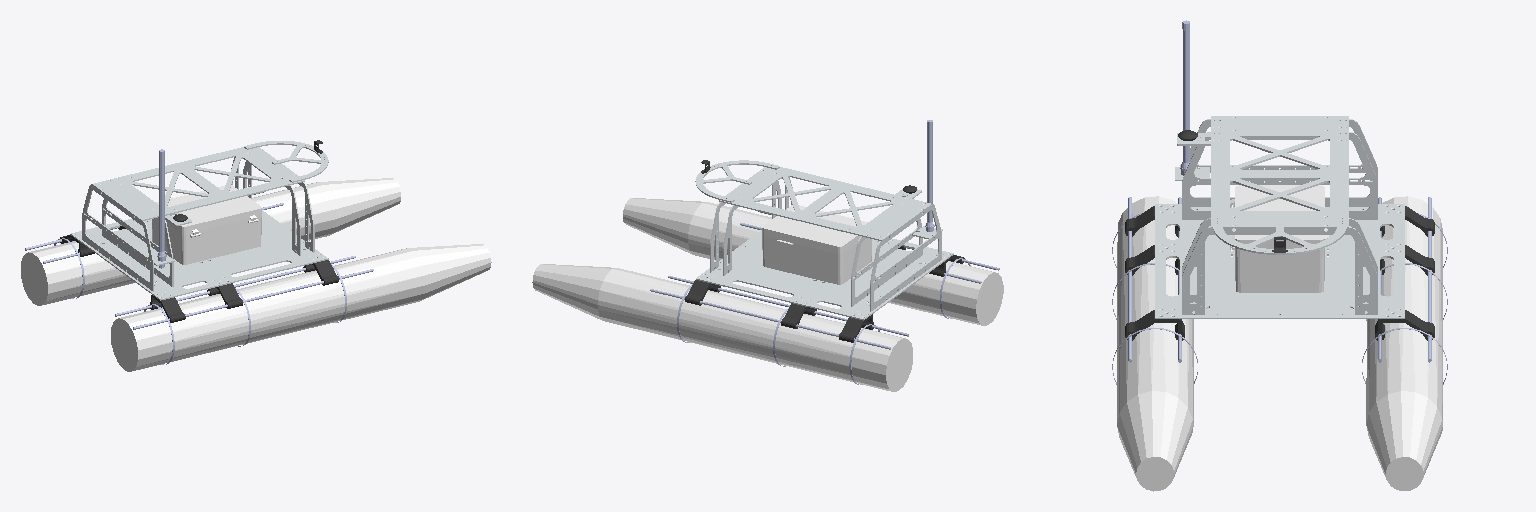
URDF robot description (duckiepond_vehicle):
<robot name="duckiepond_vehicle">
  <link name="baselink">
    <inertial>
      <origin xyz="-0.00201556619553345 -0.115774711383391 0.0452928535049344" rpy="0 0 0" />
      <mass value="7.3955685240054" />
      <inertia ixx="0.0930686648809486" ixy="8.49971556491276E-05" ixz="-0.00444766572354564" iyy="0.141452706715672" iyz="-0.00890585483017133" izz="0.118669808193289" />
    </inertial>
    <visual>
      <origin xyz="0 0 0" rpy="0 0 0" />
      <geometry>
        <mesh filename="package://duckiepond_vehicle/mesh/baselink.STL" />
      </geometry>
      <material name="">
        <color rgba="0.898039215686275 0.917647058823529 0.929411764705882 1" />
      </material>
    </visual>
    <collision>
      <origin xyz="0 0 0" rpy="0 0 0" />
      <geometry>
        <mesh filename="package://duckiepond_vehicle/mesh/baselink.STL" />
      </geometry>
    </collision>
  </link>
  <link name="cameralink">
    <inertial>
      <origin xyz="0.00437816278028319 -2.13891714974872E-05 -0.00728569229905018" rpy="0 0 0" />
      <mass value="0.00562870839119988" />
      <inertia ixx="0" ixy="0" ixz="0" iyy="0" iyz="0" izz="0" />
    </inertial>
    <visual>
      <origin xyz="0 0 0" rpy="0 0 0" />
      <geometry>
        <mesh filename="package://duckiepond_vehicle/mesh/cameralink.STL" />
      </geometry>
      <material name="">
        <color rgba="0.298039215686275 0.298039215686275 0.298039215686275 1" />
      </material>
    </visual>
    <collision>
      <origin xyz="0 0 0" rpy="0 0 0" />
      <geometry>
        <mesh filename="package://duckiepond_vehicle/mesh/cameralink.STL" />
      </geometry>
    </collision>
  </link>
  <joint name="camerajoint" type="fixed">
    <origin xyz="0.489530613957206 0 0.290251530663678" rpy="0 0 0" />
    <parent link="baselink" />
    <child link="cameralink" />
    <axis xyz="0 0 0" />
  </joint>
  <link name="gpslink">
    <inertial>
      <origin xyz="1.01683827635757E-07 -1.01683827691268E-07 0.00875648643174259" rpy="0 0 0" />
      <mass value="0.028118264575905" />
      <inertia ixx="0" ixy="0" ixz="0" iyy="0" iyz="0" izz="0" />
    </inertial>
    <visual>
      <origin xyz="0 0 0" rpy="0 0 0" />
      <geometry>
        <mesh filename="package://duckiepond_vehicle/mesh/gpslink.STL" />
      </geometry>
      <material name="">
        <color rgba="0.298039215686275 0.298039215686275 0.298039215686275 1" />
      </material>
    </visual>
    <collision>
      <origin xyz="0 0 0" rpy="0 0 0" />
      <geometry>
        <mesh filename="package://duckiepond_vehicle/mesh/gpslink.STL" />
      </geometry>
    </collision>
  </link>
  <joint name="gpsjoint" type="fixed">
    <origin xyz="-0.2175 -0.2395 0.255" rpy="4.16333634234434E-17 1.11022302462516E-16 6.93889390390723E-17" />
    <parent link="baselink" />
    <child link="gpslink" />
    <axis xyz="0 0 0" />
  </joint>
  <link name="boxlink">
    <inertial>
      <origin xyz="0.0308158977062125 -0.000840284840662907 0.0824275993877513" rpy="0 0 0" />
      <mass value="0.967626833312939" />
      <inertia ixx="6.24394504813381E-05" ixy="-5.31326643118662E-05" ixz="1.94006601550366E-05" iyy="5.85864783515465E-05" iyz="2.01168382965867E-05" izz="0.00010633515628306" />
    </inertial>
    <visual>
      <origin xyz="0 0 0" rpy="0 0 0" />
      <geometry>
        <mesh filename="package://duckiepond_vehicle/mesh/boxlink.STL" />
      </geometry>
      <material name="">
        <color rgba="1 1 1 1" />
      </material>
    </visual>
    <collision>
      <origin xyz="0 0 0" rpy="0 0 0" />
      <geometry>
        <mesh filename="package://duckiepond_vehicle/mesh/boxlink.STL" />
      </geometry>
    </collision>
  </link>
  <joint name="boxjoint" type="fixed">
    <origin xyz="0 0 0" rpy="0 0 0" />
    <parent link="baselink" />
    <child link="boxlink" />
    <axis xyz="0 0 0" />
  </joint>
  <link name="antenalink">
    <inertial>
      <origin xyz="-0.2975 -0.243825 0.307075130894649" rpy="0 0 0" />
      <mass value="0.157974515346865" />
      <inertia ixx="0" ixy="0" ixz="0" iyy="0" iyz="0" izz="0" />
    </inertial>
    <visual>
      <origin xyz="0 0 0" rpy="0 0 0" />
      <geometry>
        <mesh filename="package://duckiepond_vehicle/mesh/antenalink.STL" />
      </geometry>
      <material name="">
        <color rgba="0.792156862745098 0.819607843137255 0.933333333333333 1" />
      </material>
    </visual>
    <collision>
      <origin xyz="0 0 0" rpy="0 0 0" />
      <geometry>
        <mesh filename="package://duckiepond_vehicle/mesh/antenalink.STL" />
      </geometry>
    </collision>
  </link>
  <joint name="antenajoint" type="fixed">
    <origin xyz="0 0 0" rpy="0 0 0" />
    <parent link="baselink" />
    <child link="antenalink" />
    <axis xyz="0 0 0" />
  </joint>
  <link name="skiplatelink">
    <inertial>
      <origin xyz="-0.0266666666666668 1.4978424328395E-16 -0.0272706012437862" rpy="0 0 0" />
      <mass value="0.880192610943105" />
      <inertia ixx="0.0878815180133618" ixy="3.98986399474666E-17" ixz="-6.22971440518404E-19" iyy="0.061339645064835" iyz="-2.34800756124921E-18" izz="0.149221163078197" />
    </inertial>
    <visual>
      <origin xyz="0 0 0" rpy="0 0 0" />
      <geometry>
        <mesh filename="package://duckiepond_vehicle/mesh/skiplatelink.STL" />
      </geometry>
      <material name="">
        <color rgba="0.298039215686275 0.298039215686275 0.298039215686275 1" />
      </material>
    </visual>
    <collision>
      <origin xyz="0 0 0" rpy="0 0 0" />
      <geometry>
        <mesh filename="package://duckiepond_vehicle/mesh/skiplatelink.STL" />
      </geometry>
    </collision>
  </link>
  <joint name="skiplatejoint" type="fixed">
    <origin xyz="0 0 0" rpy="0 0 0" />
    <parent link="baselink" />
    <child link="skiplatelink" />
    <axis xyz="0 0 0" />
  </joint>
  <link name="skillink">
    <inertial>
      <origin xyz="0.191363636363636 1.02805807885689E-16 -0.142029682566655" rpy="0 0 0" />
      <mass value="86.3937979737193" />
      <inertia ixx="9.1253449109741" ixy="3.11728247009522E-15" ixz="5.32442888086167E-31" iyy="1.33110722021542E-30" iyz="-1.55864123504761E-15" izz="9.1253449109741" />
    </inertial>
    <visual>
      <origin xyz="0 0 0" rpy="0 0 0" />
      <geometry>
        <mesh filename="package://duckiepond_vehicle/mesh/skillink.STL" />
      </geometry>
      <material name="">
        <color rgba="1 1 1 1" />
      </material>
    </visual>
    <collision>
      <origin xyz="0 0 0" rpy="0 0 0" />
      <geometry>
        <mesh filename="package://duckiepond_vehicle/mesh/skillink.STL" />
      </geometry>
    </collision>
  </link>
  <joint name="skijoint" type="fixed">
    <origin xyz="0 0 0" rpy="0 0 0" />
    <parent link="skiplatelink" />
    <child link="skillink" />
    <axis xyz="0 0 0" />
  </joint>
  <link name="ringlink">
    <inertial>
      <origin xyz="-0.0136666666666666 -5.80410666401223E-17 -0.133311847951943" rpy="0 0 0" />
      <mass value="0.033623846415063" />
      <inertia ixx="0.00355151877759103" ixy="5.6920614055489E-19" ixz="7.70397224226628E-20" iyy="0.00290154367450731" iyz="6.90863652521693E-20" izz="0.00645306245209834" />
    </inertial>
    <visual>
      <origin xyz="0 0 0" rpy="0 0 0" />
      <geometry>
        <mesh filename="package://duckiepond_vehicle/mesh/ringlink.STL" />
      </geometry>
      <material name="">
        <color rgba="0.792156862745098 0.819607843137255 0.933333333333333 1" />
      </material>
    </visual>
    <collision>
      <origin xyz="0 0 0" rpy="0 0 0" />
      <geometry>
        <mesh filename="package://duckiepond_vehicle/mesh/ringlink.STL" />
      </geometry>
    </collision>
  </link>
  <joint name="ringjoint" type="fixed">
    <origin xyz="0 0 0" rpy="0 0 0" />
    <parent link="skiplatelink" />
    <child link="ringlink" />
    <axis xyz="0 0 0" />
  </joint>
  <link name="screwlink">
    <inertial>
      <origin xyz="-5.55111512312578E-17 1.21479519083676E-16 -0.0495959225003242" rpy="0 0 0" />
      <mass value="0.314159265358979" />
      <inertia ixx="0.0345103952996839" ixy="2.73943004947761E-18" ixz="-1.21009747292311E-34" iyy="7.63874029782712E-34" iyz="6.25818071647903E-19" izz="0.0345103952996839" />
    </inertial>
    <visual>
      <origin xyz="0 0 0" rpy="0 0 0" />
      <geometry>
        <mesh filename="package://duckiepond_vehicle/mesh/screwlink.STL" />
      </geometry>
      <material name="">
        <color rgba="0.792156862745098 0.819607843137255 0.933333333333333 1" />
      </material>
    </visual>
    <collision>
      <origin xyz="0 0 0" rpy="0 0 0" />
      <geometry>
        <mesh filename="package://duckiepond_vehicle/mesh/screwlink.STL" />
      </geometry>
    </collision>
  </link>
  <joint name="screwjoint" type="fixed">
    <origin xyz="0 0 0" rpy="0 0 0" />
    <parent link="skiplatelink" />
    <child link="screwlink" />
    <axis xyz="0 0 0" />
  </joint>
  <!--link
    name="propulsion2link">
    <inertial>
      <origin
        xyz="-0.0521570055920822 -0.25 0.148554826347032"
        rpy="0 0 0" />
      <mass
        value="0.0802704583045874" />
      <inertia
        ixx="0.00125422591100918"
        ixy="1.39247048448385E-19"
        ixz="0"
        iyy="6.18381117193968E-35"
        iyz="1.39247048448385E-19"
        izz="0.00125422591100918" />
    </inertial>
    <visual>
      <origin
        xyz="0 0 0"
        rpy="0 0 0" />
      <geometry>
        <mesh
          filename="package://duckiepond_vehicle/mesh/propulsion2link.STL" />
      </geometry>
      <material
        name="">
        <color
          rgba="0.898039215686275 0.917647058823529 0.929411764705882 1" />
      </material>
    </visual>
    <collision>
      <origin
        xyz="0 0 0"
        rpy="0 0 0" />
      <geometry>
        <mesh
          filename="package://duckiepond_vehicle/mesh/propulsion2link.STL" />
      </geometry>
    </collision>
  </link>
  <joint
    name="propulsion2joint"
    type="fixed">
    <origin
      xyz="0 0 0"
      rpy="0 0 0" />
    <parent
      link="baselink" />
    <child
      link="propulsion2link" />
    <axis
      xyz="0 0 0" />
  </joint>
  <link
    name="thruster2link">
    <inertial>
      <origin
        xyz="-0.30875488547556 -1.86280343315498E-11 -0.186149999957198"
        rpy="0 0 0" />
      <mass
        value="0.374829267526208" />
      <inertia
        ixx="0.0116057287959012"
        ixy="2.73039294954608E-13"
        ixz="8.39589234839071E-15"
        iyy="5.29477288314341E-05"
        iyz="-6.65755978038609E-07"
        izz="0.0116575429865907" />
    </inertial>
    <visual>
      <origin
        xyz="0 0 0"
        rpy="0 0 0" />
      <geometry>
        <mesh
          filename="package://duckiepond_vehicle/mesh/thruster2link.STL" />
      </geometry>
      <material
        name="">
        <color
          rgba="0.792156862745098 0.819607843137255 0.933333333333333 1" />
      </material>
    </visual>
    <collision>
      <origin
        xyz="0 0 0"
        rpy="0 0 0" />
      <geometry>
        <mesh
          filename="package://duckiepond_vehicle/mesh/thruster2link.STL" />
      </geometry>
    </collision>
  </link>
  <joint
    name="thruster2joint"
    type="fixed">
    <origin
      xyz="0 0 0"
      rpy="0 0 0" />
    <parent
      link="propulsion2link" />
    <child
      link="thruster2link" />
    <axis
      xyz="0 0 0" />
  </joint-->
</robot>

--- Facts derived from the render (not from the file) ---
The picture shows the robot from 3 angles, left to right: view 1: azimuth 30°, elevation 25°; view 2: azimuth 150°, elevation 25°; view 3: azimuth 270°, elevation 25°; orthographic projection.
Robot: duckiepond_vehicle — 9 links, 8 joints (8 fixed); root link baselink; default pose: all joints at 0.
Visible links, largest first — view 1: skillink, baselink, boxlink, skiplatelink, screwlink, antenalink, ringlink; view 2: skillink, baselink, boxlink, skiplatelink, screwlink, antenalink, ringlink; view 3: baselink, skillink, boxlink, skiplatelink, screwlink, antenalink, ringlink.
Boxes of the visible links, x1,y1,x2,y2 form: skillink: (21,178,491,371); baselink: (70,141,328,300); boxlink: (152,185,261,264); skiplatelink: (60,226,338,322); screwlink: (25,191,373,329); antenalink: (157,149,166,268); ringlink: (54,238,346,364); skillink: (532,198,1003,391); baselink: (695,160,953,320); boxlink: (762,205,871,284); skiplatelink: (685,246,964,342); screwlink: (650,211,999,349); antenalink: (925,120,934,231); ringlink: (677,258,970,384); baselink: (1155,116,1404,318); skillink: (1117,196,1442,491); boxlink: (1230,185,1328,292); skiplatelink: (1125,206,1434,340); screwlink: (1128,197,1431,362); antenalink: (1180,20,1189,175); ringlink: (1112,213,1447,384).
Bounding box of the posed robot: 1.5 × 0.8738 × 0.798 m (x, y, z).
Meshes: 9 distinct files referenced, 9 mesh visuals loaded (9 binary STL).